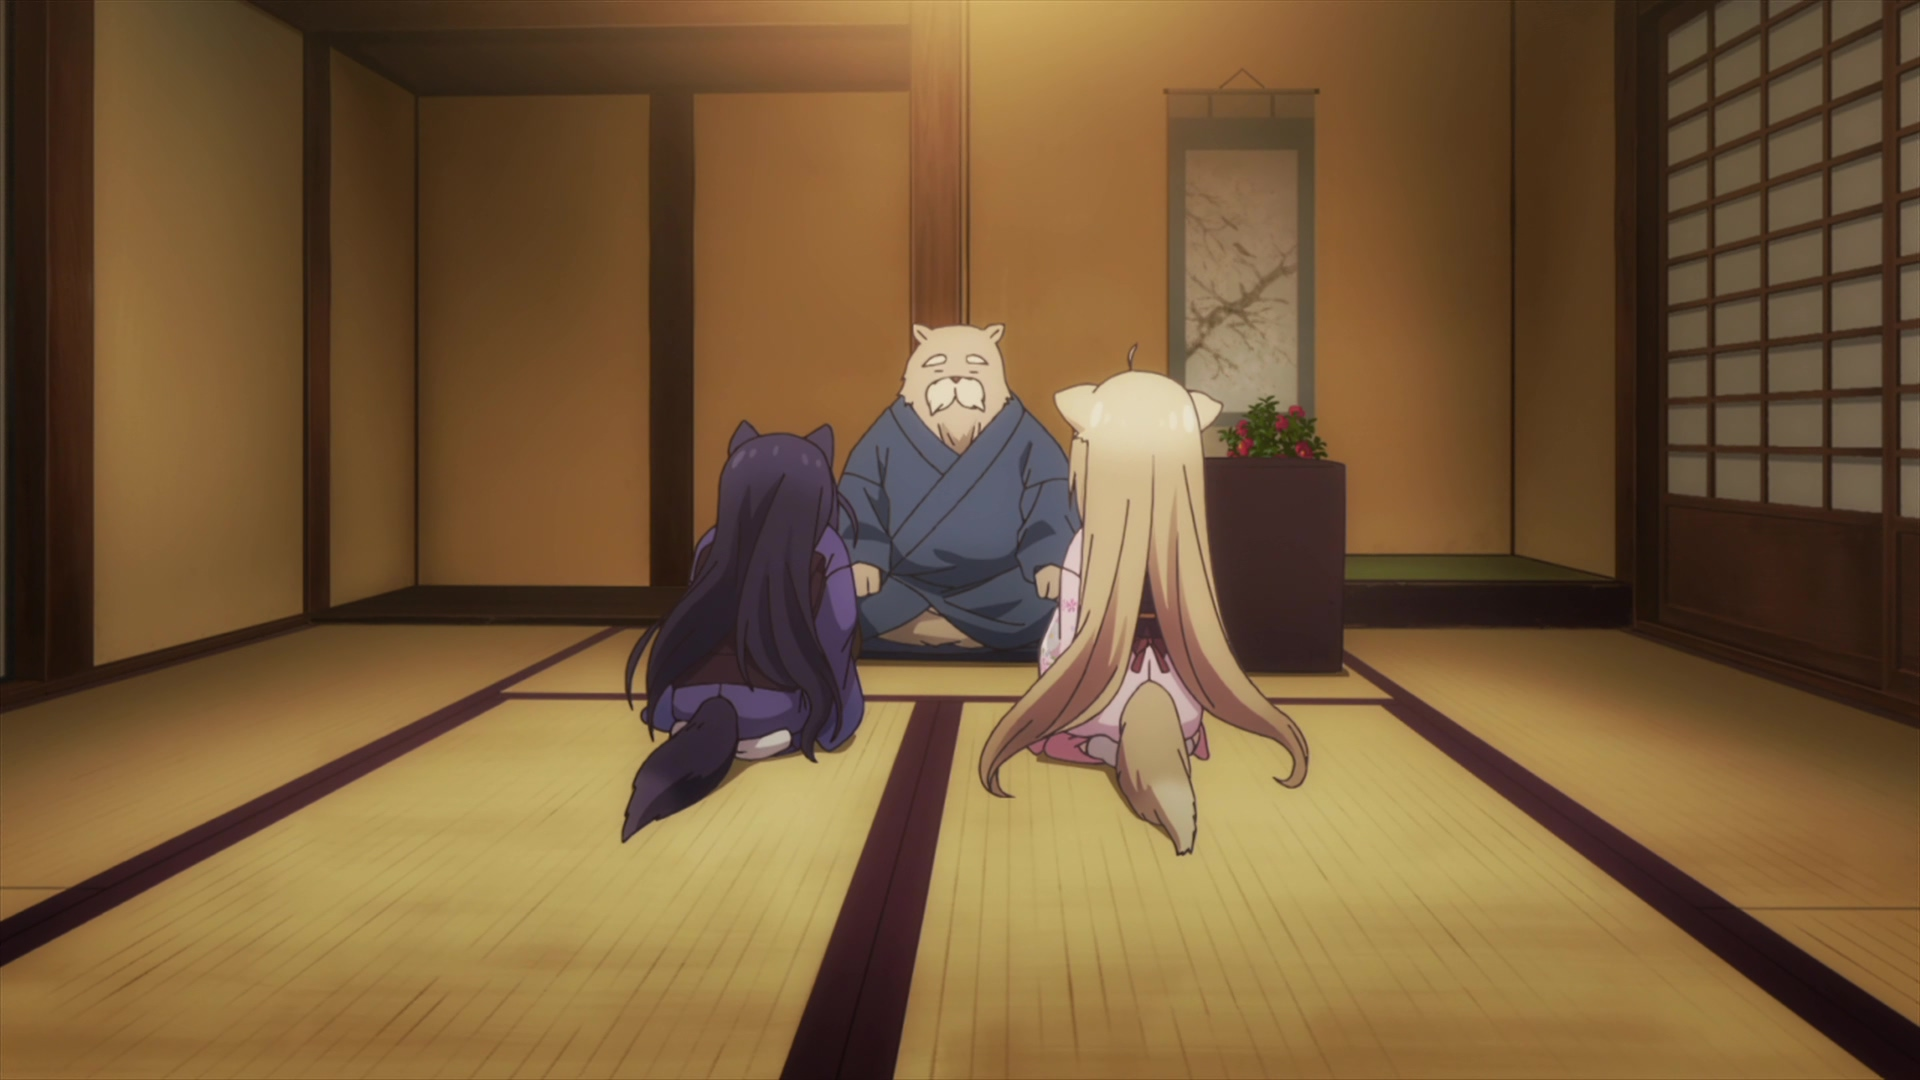柚: (978, 343, 1313, 858)
皋: (615, 417, 866, 843)
药店老板: (836, 319, 1083, 650)
